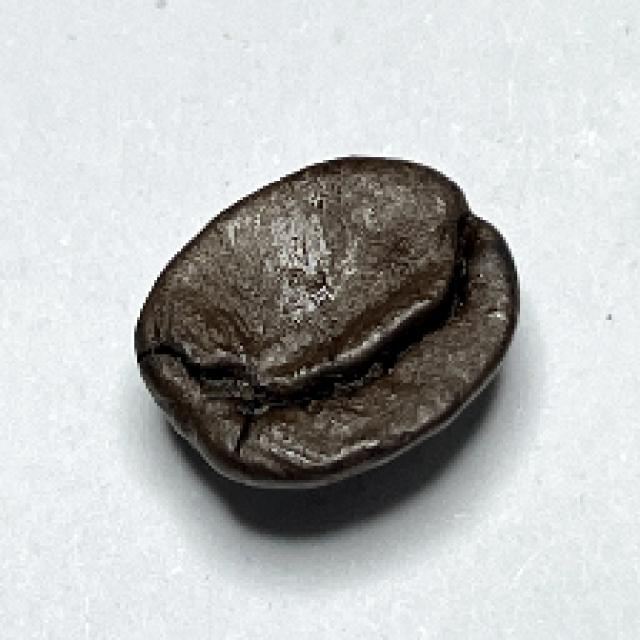bean: (130, 152, 524, 491)
